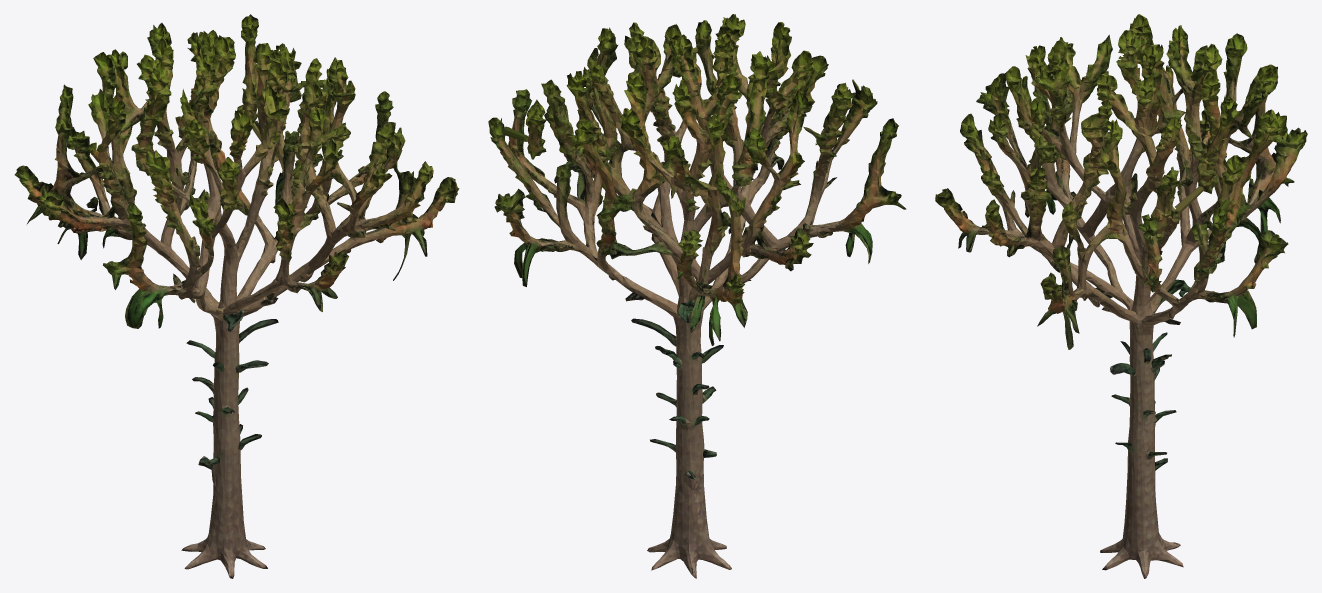
3 views of the same model, side by side, from view 1: azimuth 30°, elevation 25°; view 2: azimuth 150°, elevation 25°; view 3: azimuth 270°, elevation 25° (orthographic). The views are drawn at different scales.
Visible parts, largest first — view 1: world; view 2: world; view 3: world.
Part boxes in pixels (x1,y1,x2,y2): world: (14,14,459,578); world: (488,14,906,578); world: (935,14,1307,578).
Bounding box in the file's own units: 1.14 × 1.6 × 1.05.
1 material, 1 textured.
